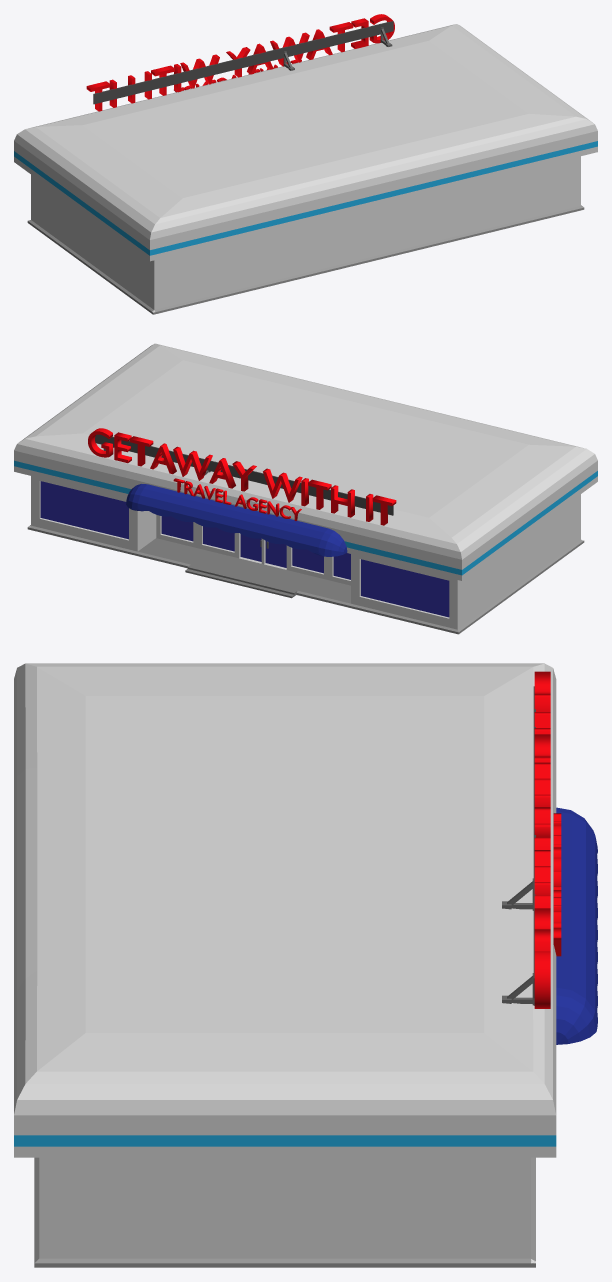
File: Travel Agency Building.glb
The picture shows the model from 3 angles, top to bottom: view 1: azimuth 30°, elevation 25°; view 2: azimuth 150°, elevation 25°; view 3: azimuth 270°, elevation 25°; orthographic projection. The views are drawn at different scales.
Parts seen in each view (by area): view 1: Plane, Cube, Text; view 2: Plane, Text, Cube, Text.001; view 3: Plane, Text, Text.001.
Boxes of the visible parts, box(x1,y1,x2,y2) form: Plane: box(14, 24, 597, 314); Cube: box(93, 21, 393, 104); Text: box(86, 14, 394, 111); Plane: box(14, 343, 597, 634); Text: box(88, 428, 396, 525); Cube: box(95, 434, 393, 515); Text.001: box(173, 478, 301, 520); Plane: box(14, 663, 597, 1267); Text: box(534, 671, 550, 1008); Text.001: box(553, 813, 561, 956).
Bounding box in the file's own units: 42 × 10.67 × 23.75.
